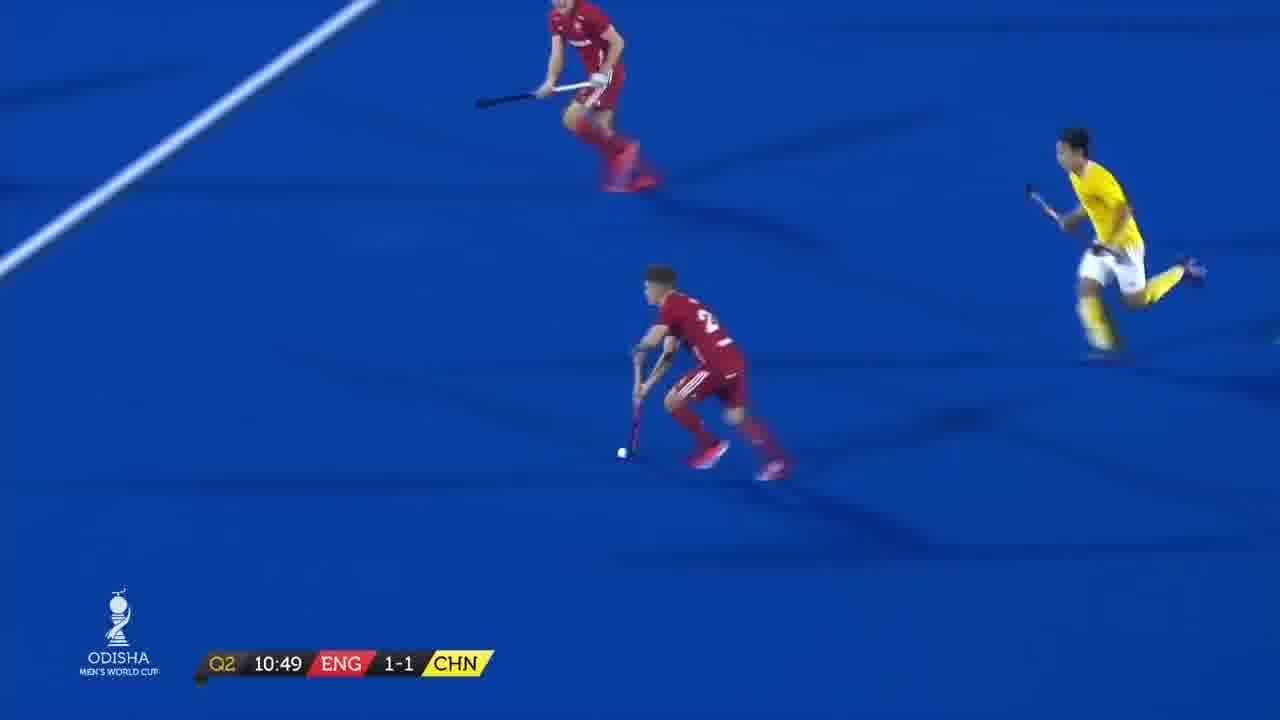ball: (614, 437, 635, 468)
